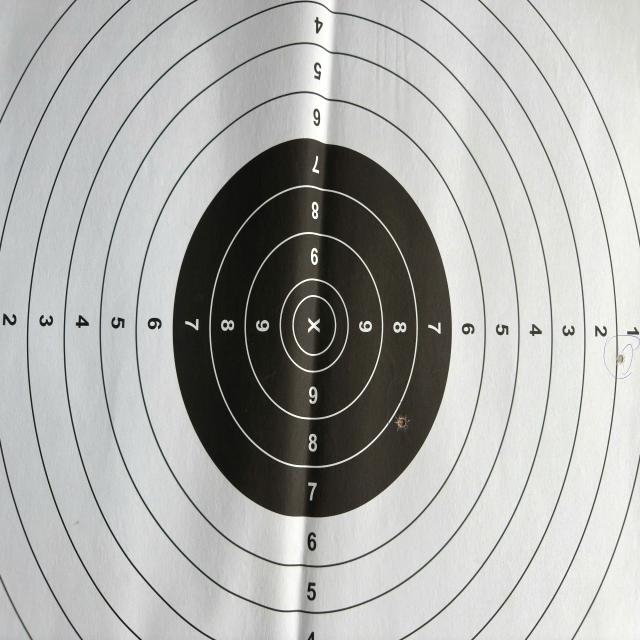bullet: (396, 417, 406, 427)
